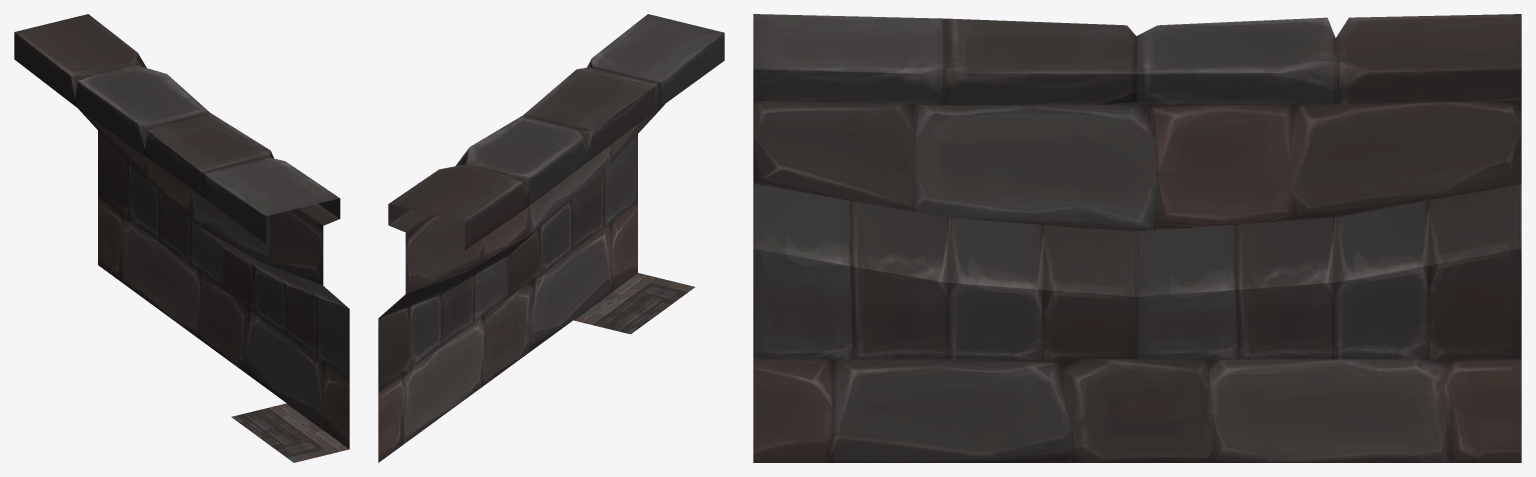
Rendered from A_CA_GEN_BalconyWall_01.fbx.
3 renders of one model, left to right at view 1: azimuth 30°, elevation 25°; view 2: azimuth 150°, elevation 25°; view 3: azimuth 270°, elevation 25°, orthographic. The views are drawn at different scales.
Parts seen in each view (by area): view 1: A_CA_GEN_BalconyWall_01; view 2: A_CA_GEN_BalconyWall_01; view 3: A_CA_GEN_BalconyWall_01.
Boxes of the visible parts, x1=… form: A_CA_GEN_BalconyWall_01: x1=14, y1=14, x2=349, y2=462; A_CA_GEN_BalconyWall_01: x1=378, y1=14, x2=724, y2=462; A_CA_GEN_BalconyWall_01: x1=753, y1=14, x2=1521, y2=462.
Bounding box in the file's own units: 134 × 389 × 700.
1 material, 1 textured.
